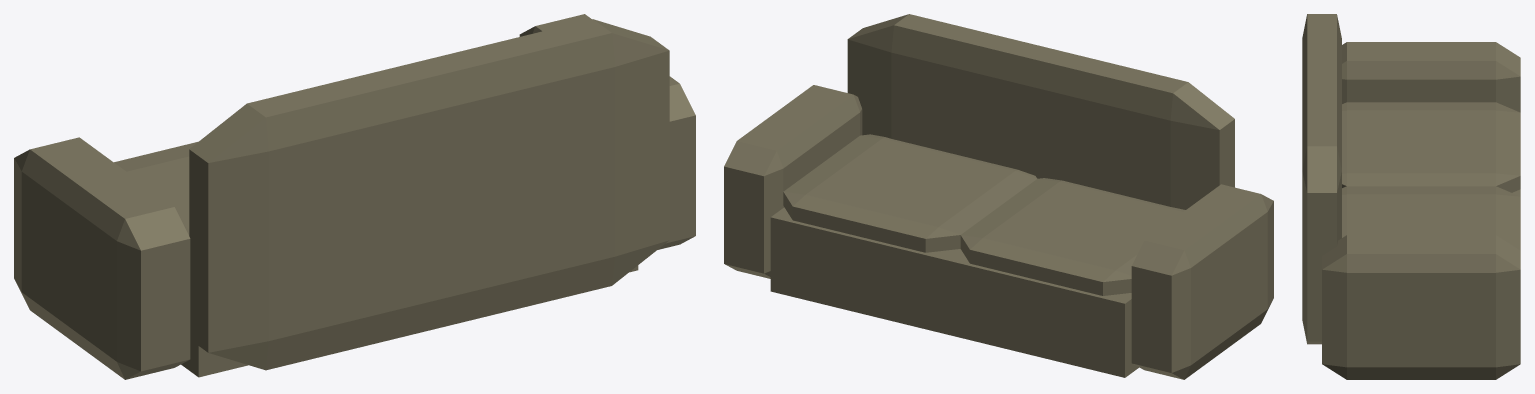
Rendered from couch.fbx.
3 renders of one model, left to right at view 1: azimuth 30°, elevation 25°; view 2: azimuth 150°, elevation 25°; view 3: azimuth 270°, elevation 25°, orthographic. The views are drawn at different scales.
Parts seen in each view (by area): view 1: block_rounded_5, block_rounded_6, block_rounded_3, block_rounded_1, block_default_2; view 2: block_rounded_5, block_default_2, block_rounded_6, block_rounded_0, block_rounded_1, block_rounded_3; view 3: block_rounded_3, block_rounded_1, block_rounded_5, block_rounded_6, block_rounded_0.
Boxes of the visible parts, <box> form: block_rounded_5: <box>189,19,669,370</box>; block_rounded_6: <box>14,137,190,379</box>; block_rounded_3: <box>519,14,695,249</box>; block_rounded_1: <box>114,141,198,235</box>; block_default_2: <box>181,265,638,377</box>; block_rounded_5: <box>847,14,1234,209</box>; block_default_2: <box>770,207,1138,377</box>; block_rounded_6: <box>1131,184,1273,379</box>; block_rounded_0: <box>783,134,1037,252</box>; block_rounded_1: <box>960,178,1185,295</box>; block_rounded_3: <box>724,85,862,278</box>; block_rounded_3: <box>1322,235,1520,379</box>; block_rounded_1: <box>1342,102,1520,192</box>; block_rounded_5: <box>1302,14,1341,344</box>; block_rounded_6: <box>1342,42,1520,112</box>; block_rounded_0: <box>1342,186,1520,250</box>.
Size of the model in its own units: 26 by 11 by 11.
